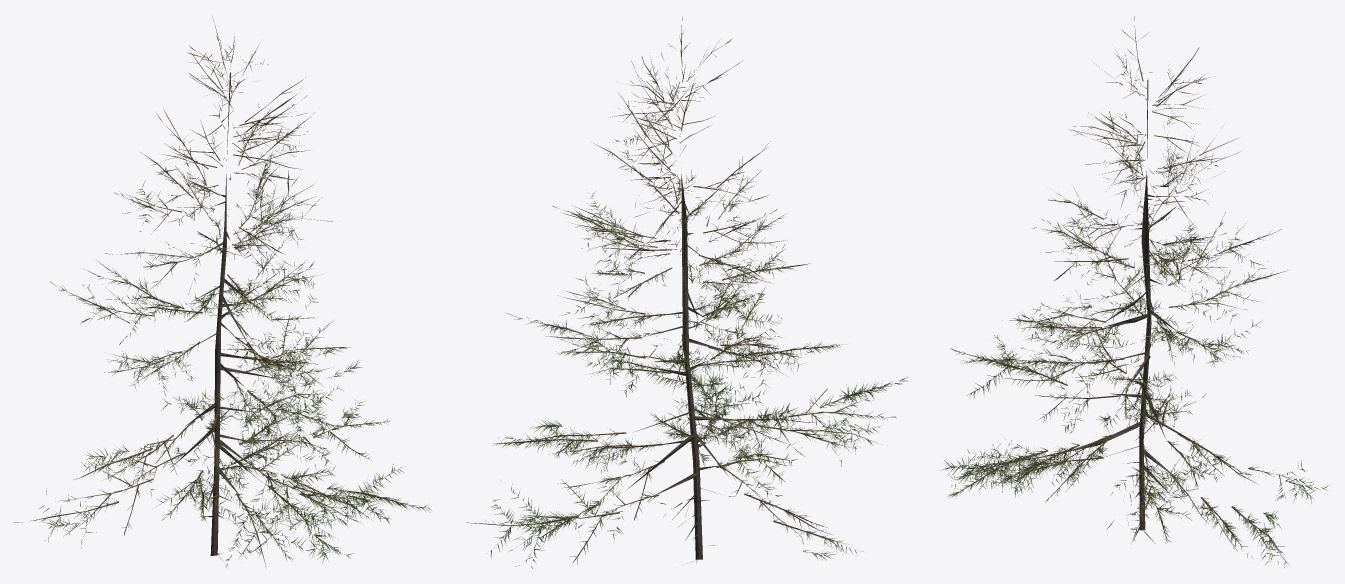
The model's file is fir_c.glb.
3 renders of one model, left to right at view 1: azimuth 30°, elevation 25°; view 2: azimuth 150°, elevation 25°; view 3: azimuth 270°, elevation 25°, orthographic. The views are drawn at different scales.
Parts seen in each view (by area): view 1: fir_sapling_medium_c_LOD0; view 2: fir_sapling_medium_c_LOD0; view 3: fir_sapling_medium_c_LOD0.
Part boxes in pixels (box(x1,y1,x2,y2)): fir_sapling_medium_c_LOD0: box(14, 16, 431, 566); fir_sapling_medium_c_LOD0: box(466, 16, 907, 568); fir_sapling_medium_c_LOD0: box(940, 16, 1328, 567).
Size of the model in its own units: 4.18 by 5.75 by 3.98.
Materials: 3 (3 with a texture image).
